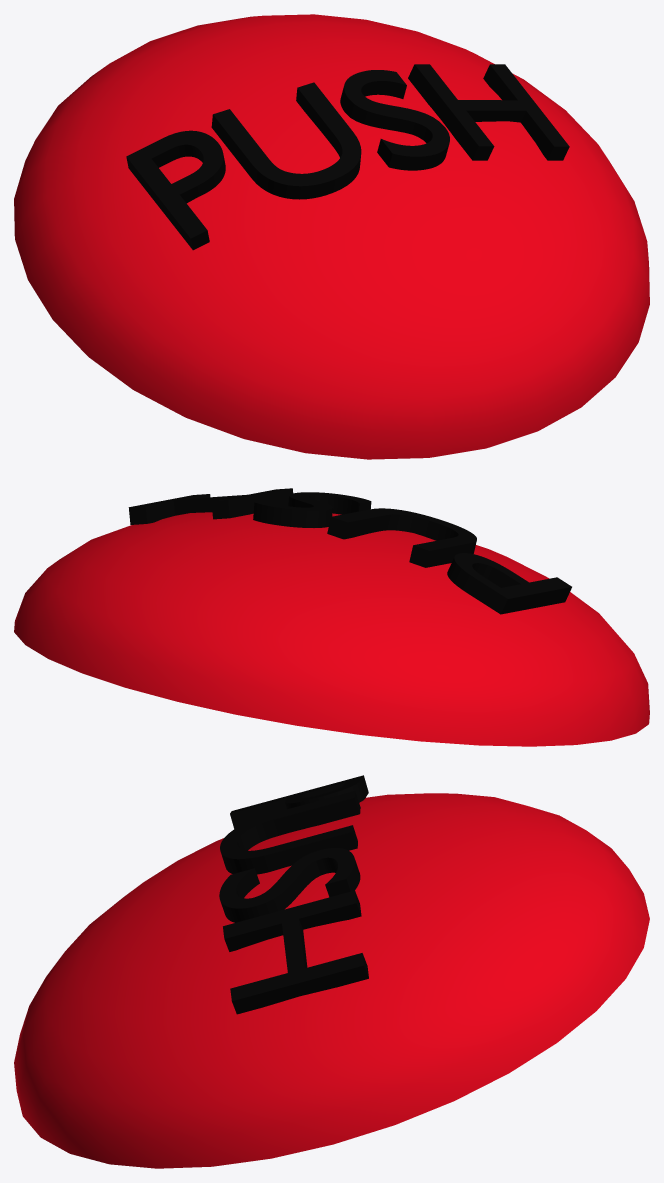
The model's file is ufo_button3.fbx.
The picture shows the model from 3 angles, top to bottom: view 1: azimuth 30°, elevation 25°; view 2: azimuth 150°, elevation 25°; view 3: azimuth 270°, elevation 25°; orthographic projection. The views are drawn at different scales.
Visible parts, largest first — view 1: button3; view 2: button3; view 3: button3.
Boxes of the visible parts, <box> form: button3: <box>14,14,649,459</box>; button3: <box>14,488,649,746</box>; button3: <box>14,775,649,1168</box>.
Bounding box in the file's own units: 36.55 × 15.53 × 35.16.
